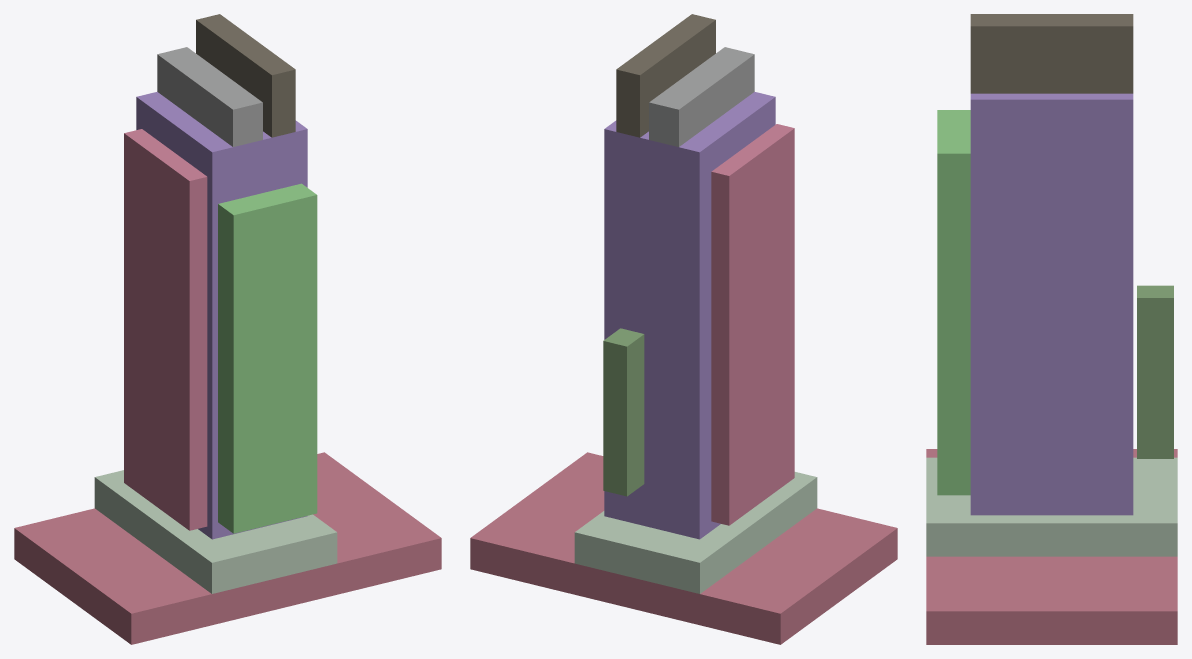
3 views of the same model, side by side, from view 1: azimuth 30°, elevation 25°; view 2: azimuth 150°, elevation 25°; view 3: azimuth 270°, elevation 25° (orthographic). The views are drawn at different scales.
Parts seen in each view (by area): view 1: world; view 2: world; view 3: world.
Part boxes in pixels (left/top/right/bottom): world: left=14, top=14, right=441, bottom=644; world: left=470, top=14, right=897, bottom=644; world: left=926, top=14, right=1177, bottom=644.
Size of the model in its own units: 5.2 by 8.25 by 3.4.
